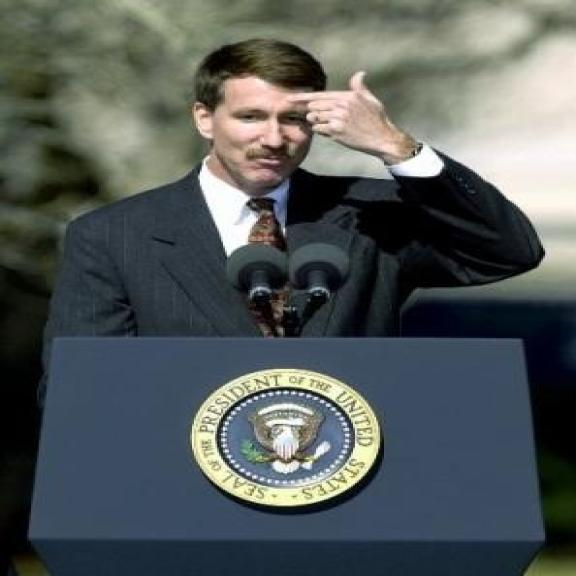face: (192, 63, 318, 189)
